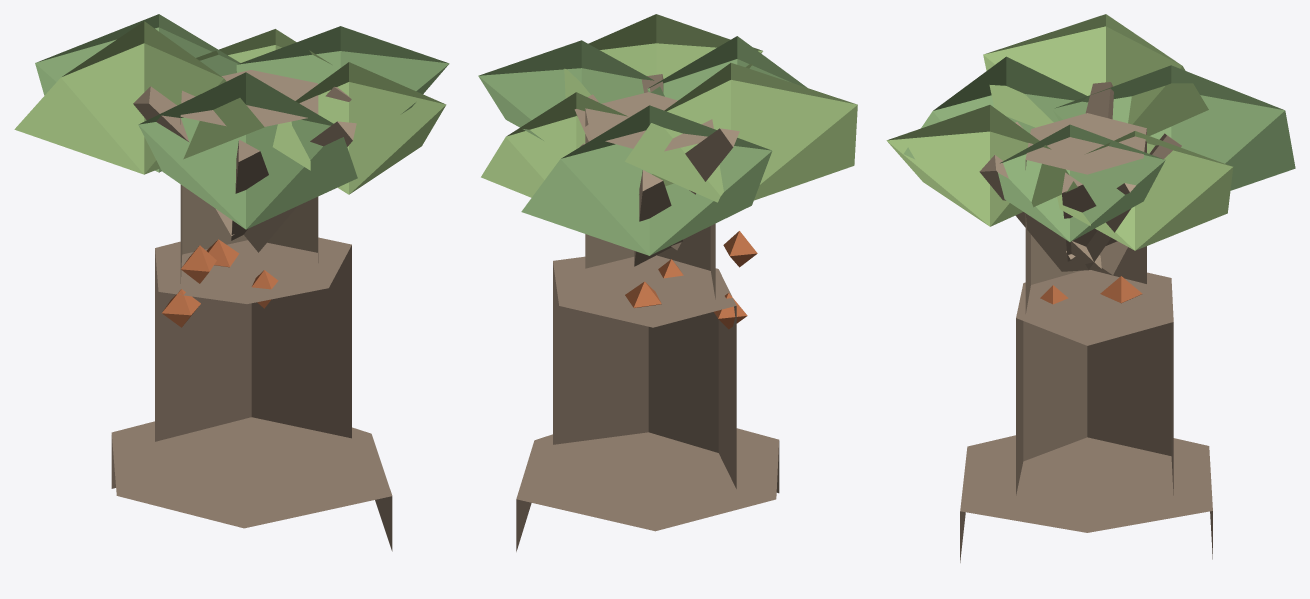
The model's file is tree.trop.baobab__spring.glb.
3 views of the same model, side by side, from view 1: azimuth 30°, elevation 25°; view 2: azimuth 150°, elevation 25°; view 3: azimuth 270°, elevation 25° (orthographic). The views are drawn at different scales.
Parts seen in each view (by area): view 1: tree.trop.baobab__spring; view 2: tree.trop.baobab__spring; view 3: tree.trop.baobab__spring.
Part boxes in pixels (x1,y1,x2,y2): tree.trop.baobab__spring: (14,14,449,551); tree.trop.baobab__spring: (478,14,857,551); tree.trop.baobab__spring: (886,14,1295,562).
Bounding box in the file's own units: 6.04 × 7.14 × 5.59.
